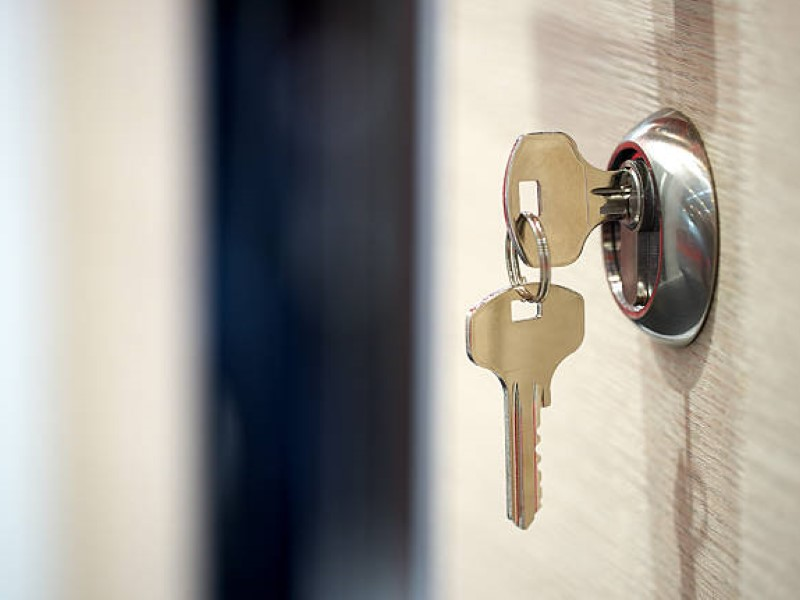key: (465, 279, 592, 534), (498, 120, 623, 273)
